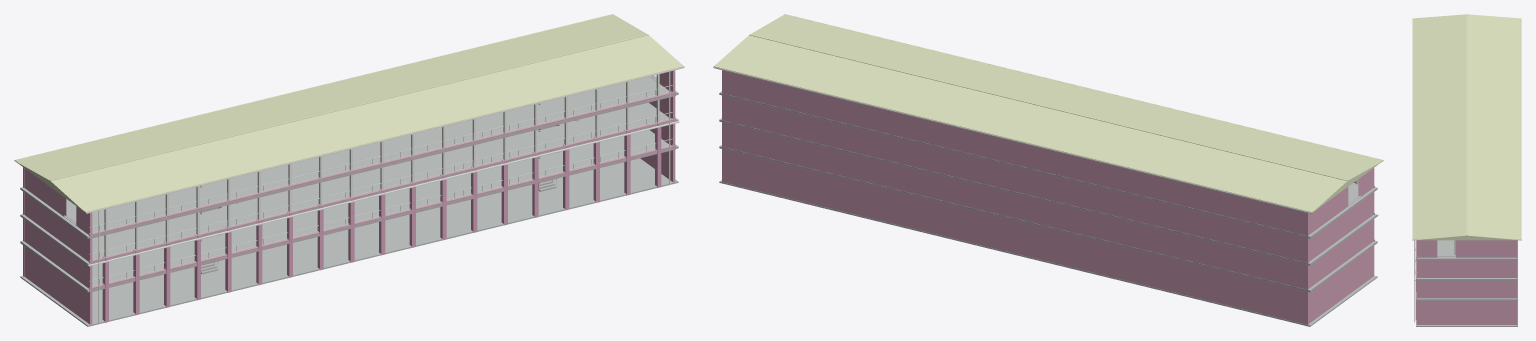
The model's file is campus-classroom-block.glb.
3 views of the same model, side by side, from view 1: azimuth 30°, elevation 25°; view 2: azimuth 150°, elevation 25°; view 3: azimuth 270°, elevation 25° (orthographic). The views are drawn at different scales.
Visible parts, largest first — view 1: CAMPUS_BLOCK_Complete level slabs, CAMPUS_BLOCK_Pale cream pitched roof, CAMPUS_BLOCK_Reference pink facade, CAMPUS_BLOCK_White columns and frames; view 2: CAMPUS_BLOCK_Reference pink facade, CAMPUS_BLOCK_Pale cream pitched roof, CAMPUS_BLOCK_Complete level slabs, CAMPUS_BLOCK_Pink facade floor joints, CAMPUS_BLOCK_White columns and frames; view 3: CAMPUS_BLOCK_Pale cream pitched roof, CAMPUS_BLOCK_Reference pink facade, CAMPUS_BLOCK_Complete level slabs, CAMPUS_BLOCK_White columns and frames.
Part boxes in pixels (box(x1,y1,x2,y2)): CAMPUS_BLOCK_Complete level slabs: box(20, 75, 678, 326); CAMPUS_BLOCK_Pale cream pitched roof: box(14, 14, 684, 212); CAMPUS_BLOCK_Reference pink facade: box(23, 70, 675, 324); CAMPUS_BLOCK_White columns and frames: box(14, 66, 684, 324); CAMPUS_BLOCK_Reference pink facade: box(722, 70, 1374, 324); CAMPUS_BLOCK_Pale cream pitched roof: box(713, 14, 1383, 212); CAMPUS_BLOCK_Complete level slabs: box(719, 91, 1377, 326); CAMPUS_BLOCK_Pink facade floor joints: box(721, 94, 1307, 290); CAMPUS_BLOCK_White columns and frames: box(713, 66, 1383, 239); CAMPUS_BLOCK_Pale cream pitched roof: box(1412, 14, 1521, 240); CAMPUS_BLOCK_Reference pink facade: box(1415, 240, 1517, 325); CAMPUS_BLOCK_Complete level slabs: box(1416, 240, 1517, 326); CAMPUS_BLOCK_White columns and frames: box(1412, 19, 1521, 322).
Size of the model in its own units: 78 by 15.36 by 16.32.
